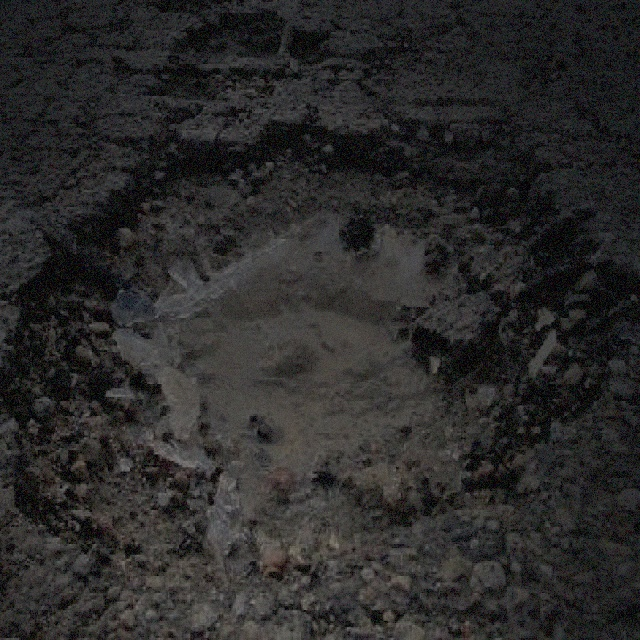pothole: (0, 111, 635, 584), (140, 0, 329, 119)
